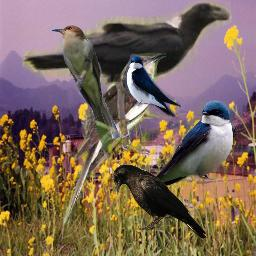Crow: (22, 1, 232, 119), (113, 164, 208, 239)
Cuckoo: (63, 53, 166, 226), (51, 24, 123, 160)
Swallow: (140, 100, 237, 193), (125, 55, 181, 117)
